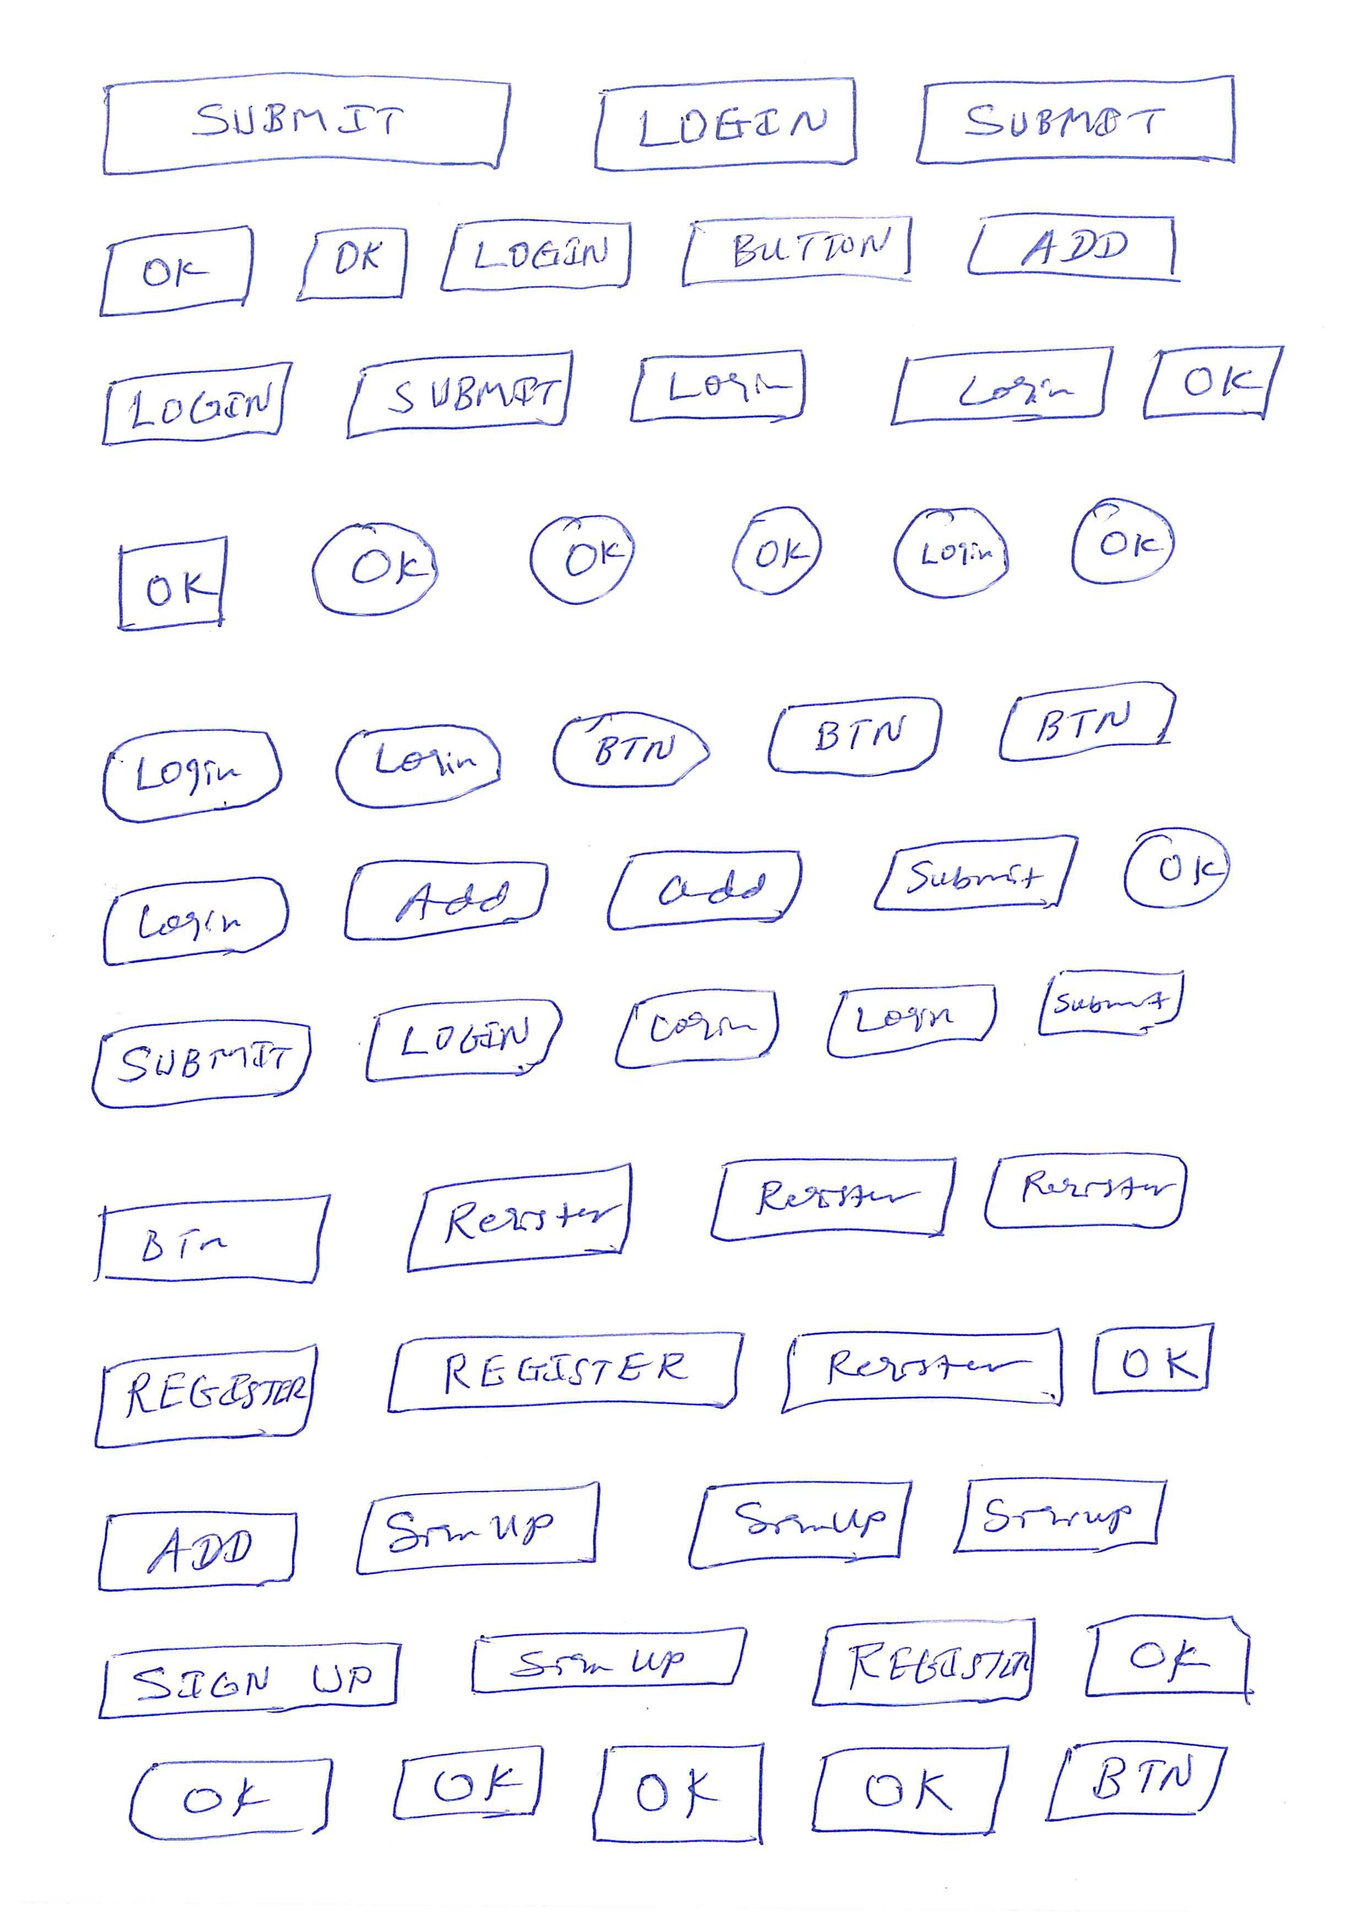Button: (99, 69, 514, 177), (914, 72, 1237, 169), (386, 1331, 747, 1415), (404, 1159, 636, 1275), (590, 75, 860, 173), (778, 1326, 1067, 1416), (92, 1341, 321, 1453), (95, 1640, 404, 1723), (355, 1479, 603, 1578), (90, 1192, 334, 1286), (707, 1153, 959, 1243), (684, 1477, 915, 1575), (809, 1615, 1038, 1711), (344, 347, 577, 441), (89, 1017, 313, 1112), (887, 343, 1119, 430), (470, 1623, 750, 1696), (809, 1742, 1011, 1836), (588, 1740, 767, 1847), (126, 1755, 336, 1845), (679, 211, 915, 290), (341, 858, 551, 945), (949, 1474, 1172, 1555), (95, 1508, 302, 1595), (101, 727, 285, 825), (364, 997, 565, 1085), (871, 832, 1082, 917), (102, 875, 291, 968), (605, 847, 804, 934), (982, 1149, 1190, 1232), (101, 359, 294, 448), (964, 210, 1183, 285), (1044, 1737, 1230, 1825), (1082, 1613, 1261, 1703), (331, 722, 506, 812), (996, 679, 1178, 764), (98, 223, 256, 321), (766, 693, 945, 779), (438, 216, 634, 291), (614, 985, 781, 1073), (627, 347, 809, 424), (825, 982, 996, 1060), (550, 710, 711, 790), (310, 520, 439, 620), (389, 1742, 546, 1822), (891, 506, 1013, 605), (115, 532, 231, 636), (1140, 342, 1288, 421), (526, 512, 639, 609), (1036, 967, 1187, 1038), (1090, 1320, 1220, 1399), (1067, 497, 1178, 586), (1121, 825, 1231, 912), (293, 225, 410, 305), (730, 504, 823, 600)
